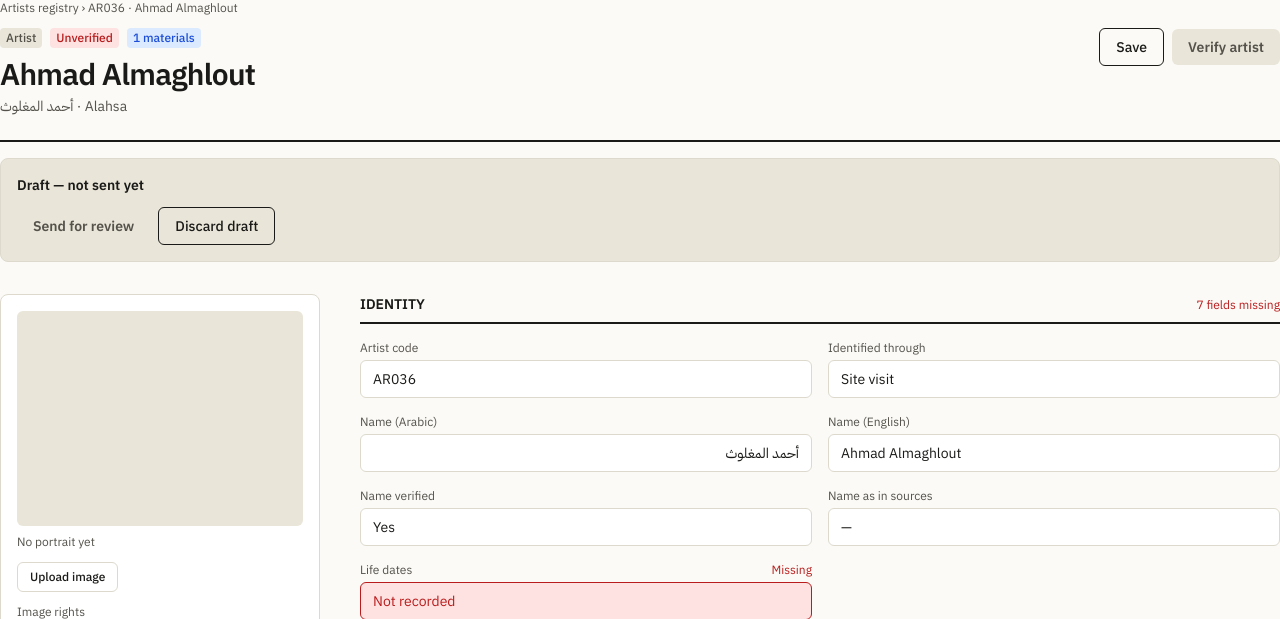
Test case: ArtistCurationPage › draft mode (proposals.submit) › shows the backend's actual refusal reason when a submit is rejected, not a generic message
Click the button with test id "save-button" at (1132, 47), box left=1099, top=28, right=1164, bottom=66
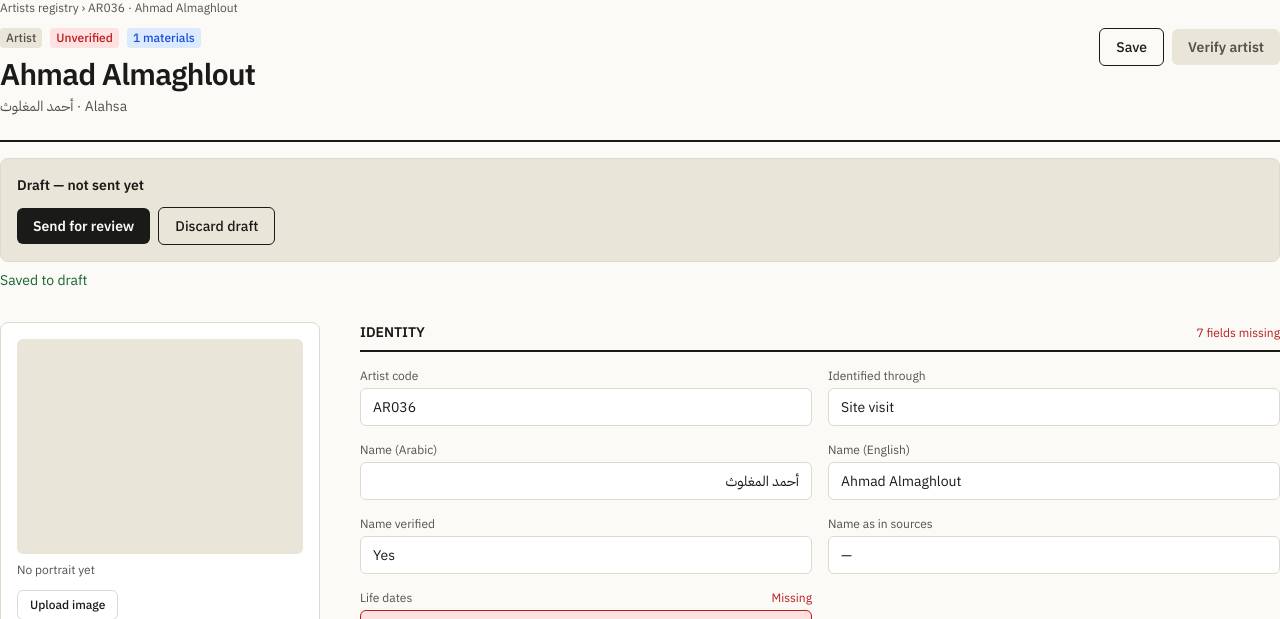
Click the button with test id "send-for-review" at (84, 226), box left=17, top=208, right=150, bottom=244
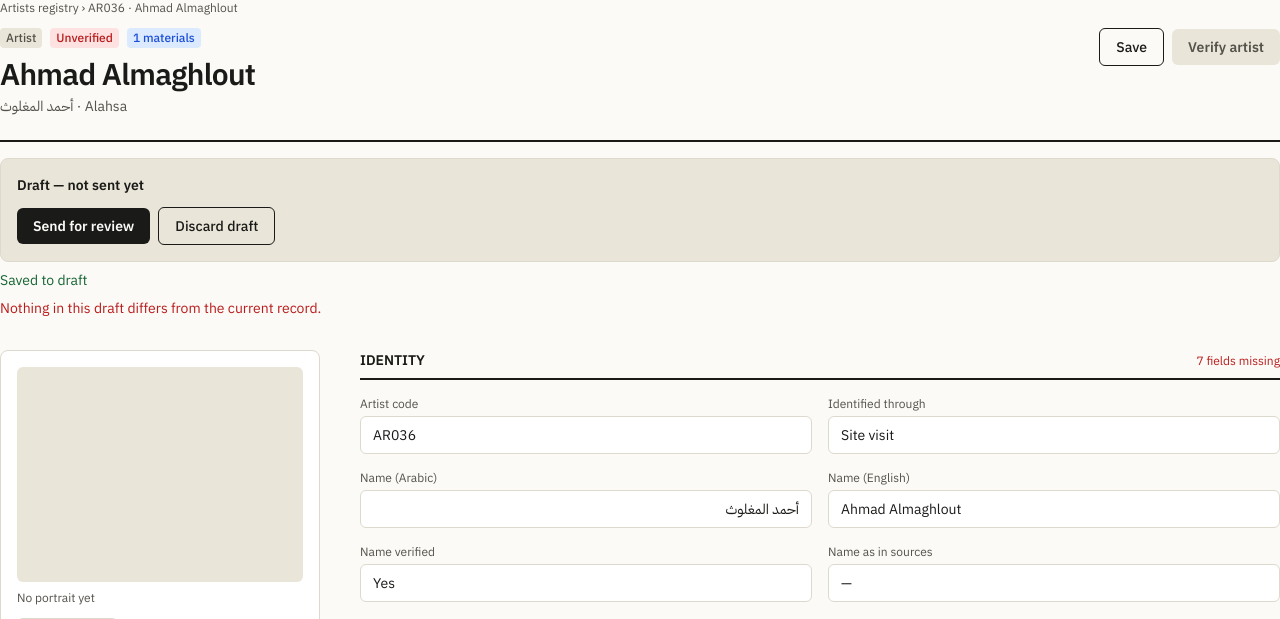
expect the text "Nothing in this draft differs from the current record." is shown: met, box left=0, top=299, right=321, bottom=317
